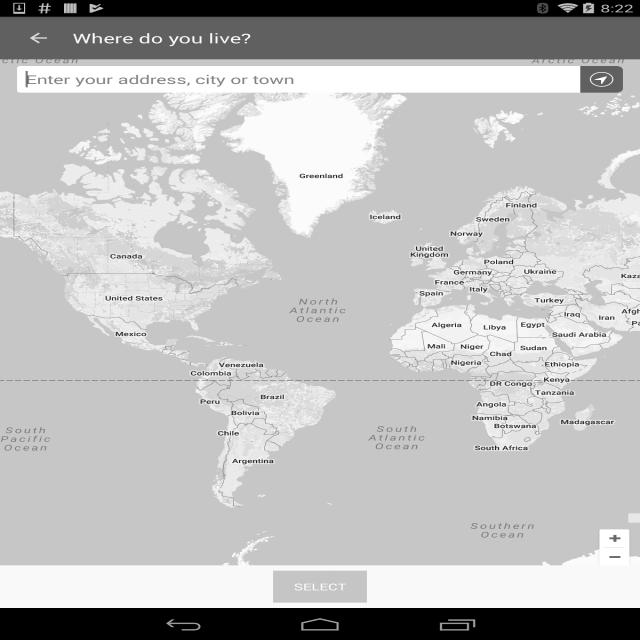Button: (273, 570, 367, 602)
EditText: (17, 66, 580, 93)
ImageButton: (9, 17, 68, 59)
ImageView: (580, 66, 623, 93)
TextView: (72, 29, 252, 47)
